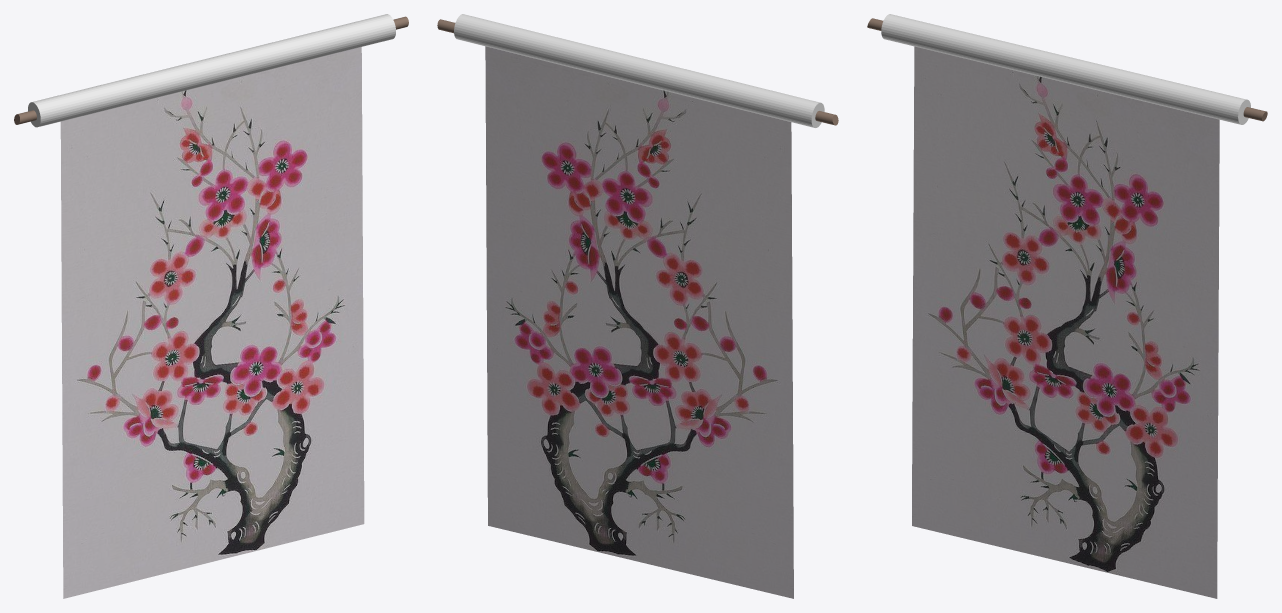
The model's file is Lukisan 3.fbx.
3 renders of one model, left to right at view 1: azimuth 30°, elevation 25°; view 2: azimuth 150°, elevation 25°; view 3: azimuth 330°, elevation 25°, orthographic.
Parts seen in each view (by area): view 1: Lukisan 3; view 2: Lukisan 3; view 3: Lukisan 3.
Part boxes in pixels (<box>): Lukisan 3: <box>14,14,408,598</box>; Lukisan 3: <box>437,14,838,598</box>; Lukisan 3: <box>867,14,1267,598</box>.
Bounding box in the file's own units: 85.71 × 105 × 4.9.
